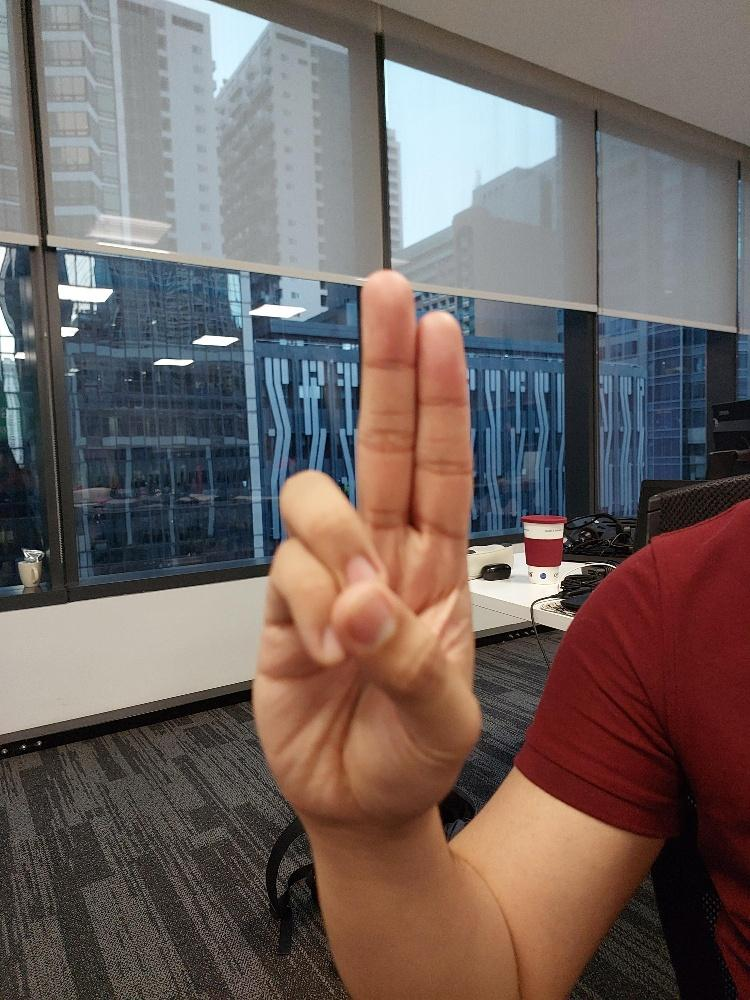u: (249, 265, 485, 824)
